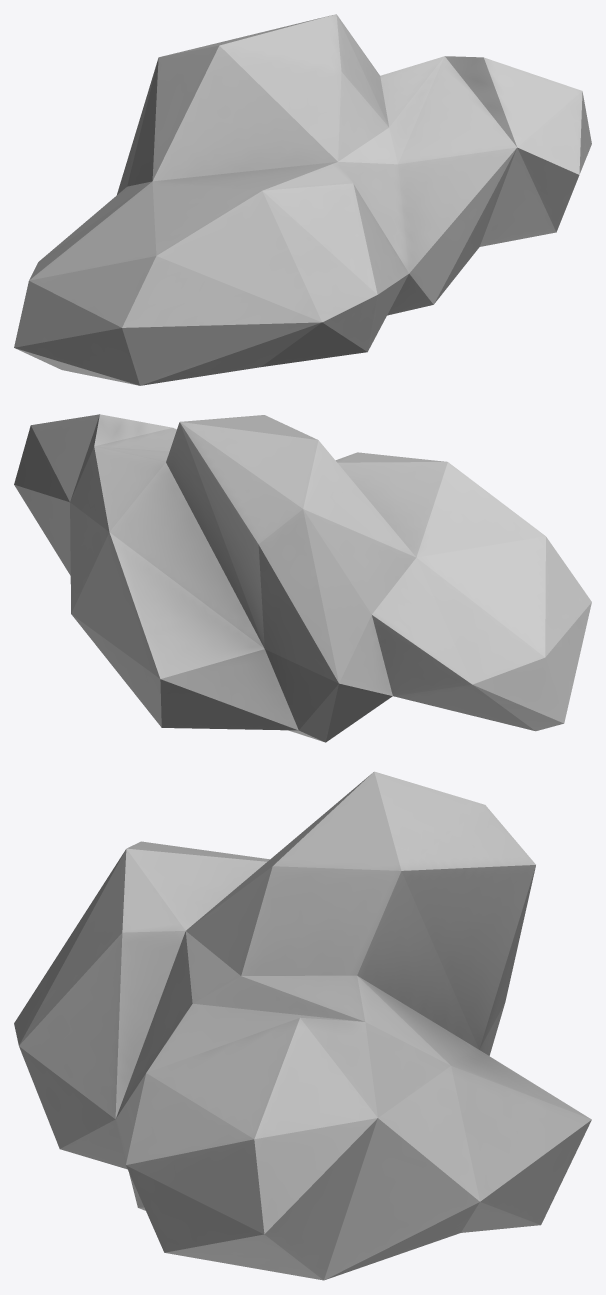
Rendered from Cloud_10.fbx.
3 views of the same model, one above another, from view 1: azimuth 30°, elevation 25°; view 2: azimuth 150°, elevation 25°; view 3: azimuth 270°, elevation 25° (orthographic). The views are drawn at different scales.
Visible parts, largest first — view 1: Cloud_10; view 2: Cloud_10; view 3: Cloud_10.
Part boxes in pixels (bbox=[...]): Cloud_10: bbox=[14, 14, 591, 385]; Cloud_10: bbox=[14, 414, 591, 742]; Cloud_10: bbox=[14, 771, 591, 1280].
Bounding box in the file's own units: 75.73 × 46.42 × 35.42.
Materials: 1 (1 with a texture image).
